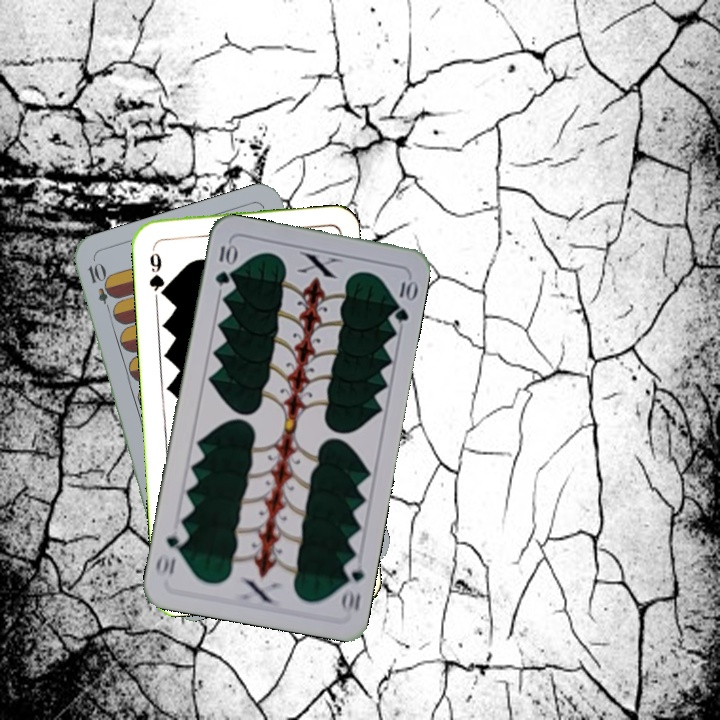E10: (84, 259, 116, 317)
G10: (337, 555, 367, 616), (211, 241, 238, 288)
G9: (145, 241, 169, 300)
